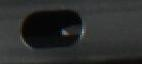holes: (19, 8, 85, 51)
